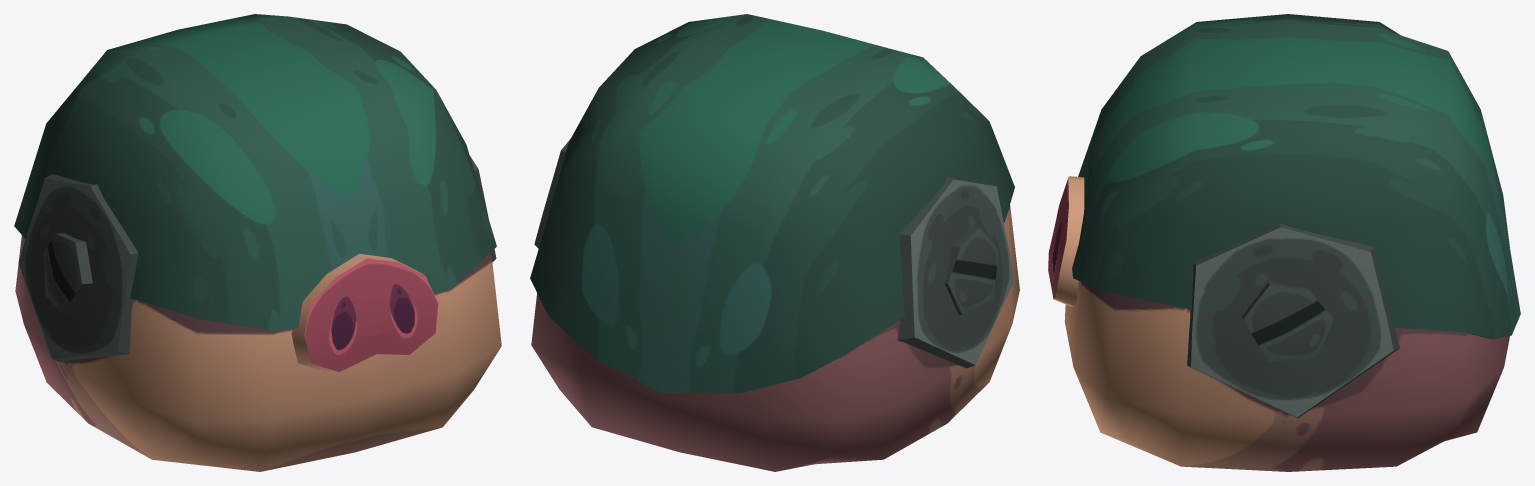
File: pig.FBX
3 views of the same model, side by side, from view 1: azimuth 30°, elevation 25°; view 2: azimuth 150°, elevation 25°; view 3: azimuth 270°, elevation 25° (orthographic). The views are drawn at different scales.
Visible parts, largest first — view 1: Box001; view 2: Box001; view 3: Box001.
Part boxes in pixels (x1,y1,x2,y2): Box001: [14, 14, 501, 471]; Box001: [530, 14, 1019, 471]; Box001: [1048, 14, 1520, 471].
Size of the model in its own units: 45.22 by 35.92 by 43.91.
